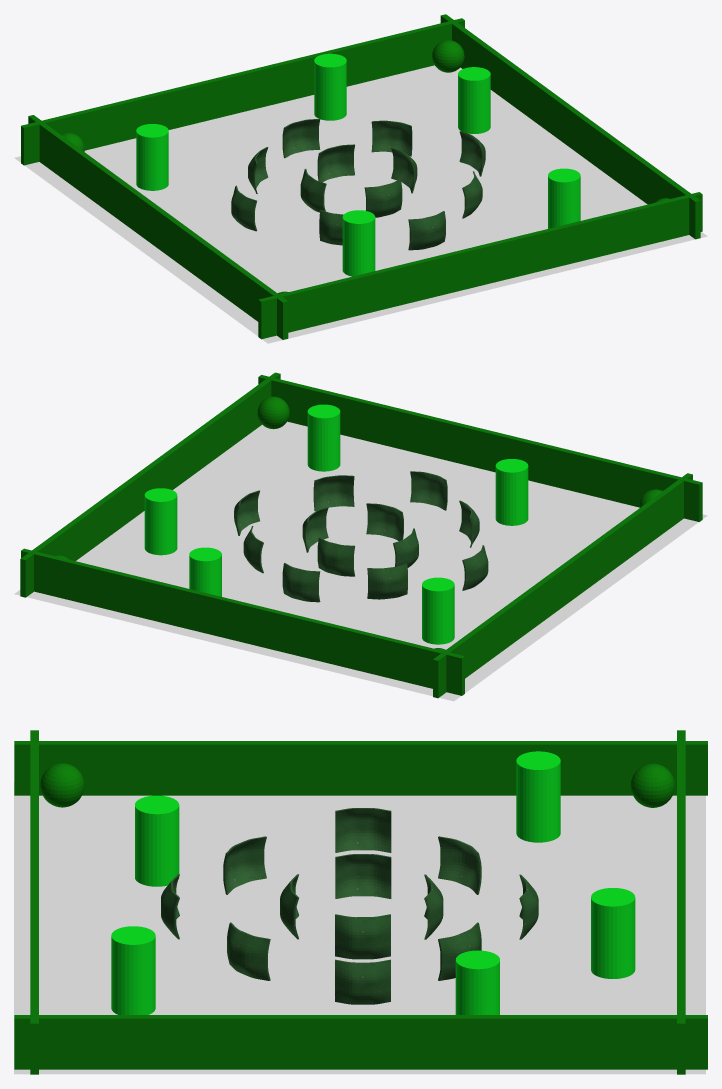
The model's file is map6.dae.
The picture shows the model from 3 angles, top to bottom: view 1: azimuth 30°, elevation 25°; view 2: azimuth 150°, elevation 25°; view 3: azimuth 270°, elevation 25°; orthographic projection. The views are drawn at different scales.
Visible parts, largest first — view 1: Plane, Cube.013, Cube.014, Cube.012, Cube.015, Cylinder, Cylinder.004, Cylinder.001, Cylinder.002, Cylinder.003, Cube.005, Cube.011 (+11 smaller); view 2: Plane, Cube.014, Cube.013, Cube.012, Cube.015, Cylinder.003, Cylinder.002, Cylinder, Cylinder.001, Cylinder.004, Cube.007, Cube.006 (+11 smaller); view 3: Plane, Cube.015, Cube.012, Cylinder.001, Cylinder.004, Cylinder, Cylinder.003, Cube.014, Cube.013, Cylinder.002, Cube.009, Cube.001 (+12 smaller).
Part boxes in pixels (<box>): Plane: <box>14,65,707,343</box>; Cube.013: <box>258,192,702,339</box>; Cube.014: <box>21,18,464,165</box>; Cube.012: <box>28,115,288,339</box>; Cube.015: <box>440,14,700,239</box>; Cylinder: <box>342,210,375,276</box>; Cylinder.004: <box>314,53,346,120</box>; Cylinder.001: <box>136,124,168,190</box>; Cylinder.002: <box>458,67,490,133</box>; Cylinder.003: <box>548,168,580,228</box>; Cube.005: <box>371,120,412,156</box>; Cube.011: <box>282,119,320,158</box>; Plane: <box>14,421,707,701</box>; Cube.014: <box>21,548,464,695</box>; Cube.013: <box>258,375,702,521</box>; Cube.012: <box>433,473,692,698</box>; Cube.015: <box>20,372,280,597</box>; Cylinder.003: <box>307,404,340,471</box>; Cylinder.002: <box>144,488,177,555</box>; Cylinder: <box>495,459,528,525</box>; Cylinder.001: <box>422,577,454,644</box>; Cylinder.004: <box>189,547,221,596</box>; Cube.007: <box>313,475,354,511</box>; Cube.006: <box>367,563,407,599</box>; Plane: <box>14,782,705,1074</box>; Cube.015: <box>14,1015,707,1069</box>; Cube.012: <box>14,741,707,795</box>; Cylinder.001: <box>516,751,560,842</box>; Cylinder.004: <box>591,888,635,978</box>; Cylinder: <box>135,795,179,886</box>; Cylinder.003: <box>111,926,155,1014</box>; Cube.014: <box>677,730,685,1074</box>; Cube.013: <box>30,730,38,1074</box>; Cylinder.002: <box>455,950,499,1014</box>; Cube.009: <box>335,808,391,852</box>; Cube.001: <box>335,854,391,898</box>.
Size of the model in its own units: 31.26 by 31.26 by 3.64.
Materials: 3 (1 with a texture image).
